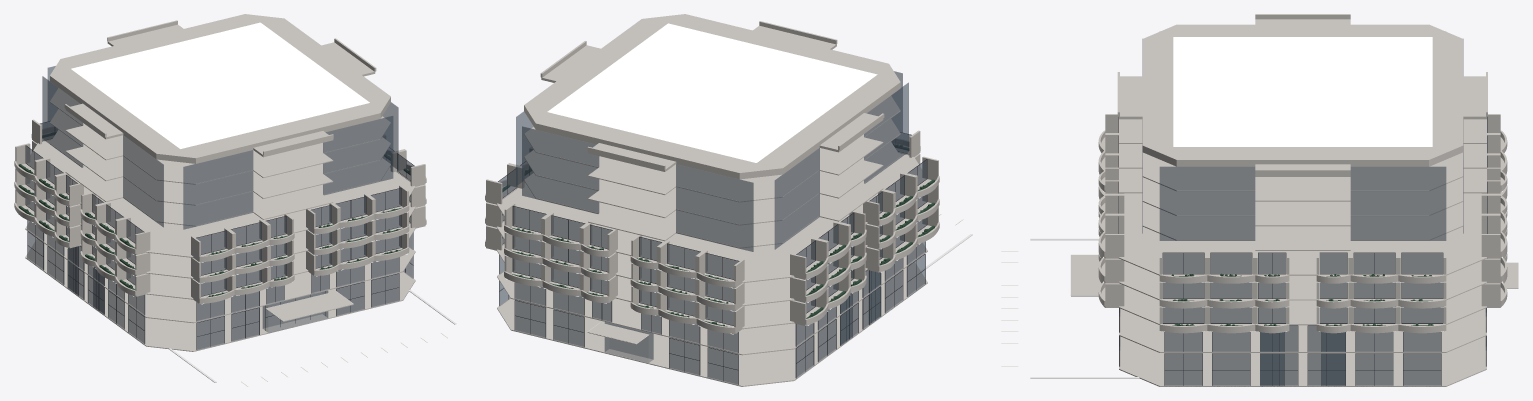
Rendered from aurum_building_only.glb.
3 views of the same model, side by side, from view 1: azimuth 30°, elevation 25°; view 2: azimuth 150°, elevation 25°; view 3: azimuth 270°, elevation 25° (orthographic). The views are drawn at different scales.
Parts seen in each view (by area): view 1: RoofLtStrip, RParapet, Slab_00, Slab_04, Slab_01, Slab_06, Slab_05, Slab_07, Front_SetbackGlassL, Front_SetbackGlassR, Slab_02, Slab_03 (+34 smaller); view 2: RoofLtStrip, RParapet, Slab_00, Slab_04, Slab_01, Slab_05, Slab_06, Slab_07, Rear_SetbackGlassR, Rear_SetbackGlassL, Slab_03, Slab_02 (+37 smaller); view 3: RoofLtStrip, RParapet, Slab_00, Slab_04, Slab_01, Slab_06, Right_SetbackGlassL, Right_SetbackGlassR, Slab_07, Slab_05, Slab_02, Slab_03 (+57 smaller).
Part boxes in pixels (x1=…): RoofLtStrip: x1=71, y1=22, x2=369, y2=148; RParapet: x1=50, y1=14, x2=390, y2=161; Slab_00: x1=25, y1=239, x2=415, y2=351; Slab_04: x1=26, y1=140, x2=415, y2=257; Slab_01: x1=25, y1=221, x2=415, y2=323; Slab_06: x1=50, y1=109, x2=390, y2=205; Slab_05: x1=50, y1=130, x2=390, y2=226; Slab_07: x1=50, y1=88, x2=390, y2=184; Front_SetbackGlassL: x1=183, y1=150, x2=253, y2=229; Front_SetbackGlassR: x1=323, y1=116, x2=393, y2=194; Slab_02: x1=27, y1=200, x2=415, y2=299; Slab_03: x1=27, y1=180, x2=415, y2=278; RoofLtStrip: x1=547, y1=23, x2=877, y2=162; RParapet: x1=524, y1=14, x2=900, y2=176; Slab_00: x1=497, y1=262, x2=927, y2=386; Slab_04: x1=497, y1=153, x2=925, y2=282; Slab_01: x1=497, y1=242, x2=927, y2=355; Slab_05: x1=524, y1=142, x2=900, y2=248; Slab_06: x1=524, y1=119, x2=900, y2=225; Slab_07: x1=524, y1=96, x2=900, y2=202; Rear_SetbackGlassR: x1=676, y1=164, x2=753, y2=251; Rear_SetbackGlassL: x1=522, y1=126, x2=599, y2=213; Slab_03: x1=497, y1=197, x2=925, y2=306; Slab_02: x1=497, y1=220, x2=926, y2=329; RoofLtStrip: x1=1173, y1=37, x2=1432, y2=146; RParapet: x1=1142, y1=24, x2=1463, y2=164; Slab_00: x1=1119, y1=336, x2=1486, y2=386; Slab_04: x1=1119, y1=193, x2=1486, y2=275; Slab_01: x1=1119, y1=308, x2=1486, y2=352; Slab_06: x1=1142, y1=177, x2=1463, y2=216; Right_SetbackGlassL: x1=1159, y1=166, x2=1255, y2=240; Right_SetbackGlassR: x1=1350, y1=166, x2=1446, y2=240; Slab_07: x1=1142, y1=152, x2=1463, y2=191; Slab_05: x1=1142, y1=202, x2=1463, y2=240; Slab_02: x1=1119, y1=285, x2=1486, y2=325; Slab_03: x1=1119, y1=261, x2=1486, y2=300.
Size of the model in its own units: 59.9 by 35.18 by 75.9.
